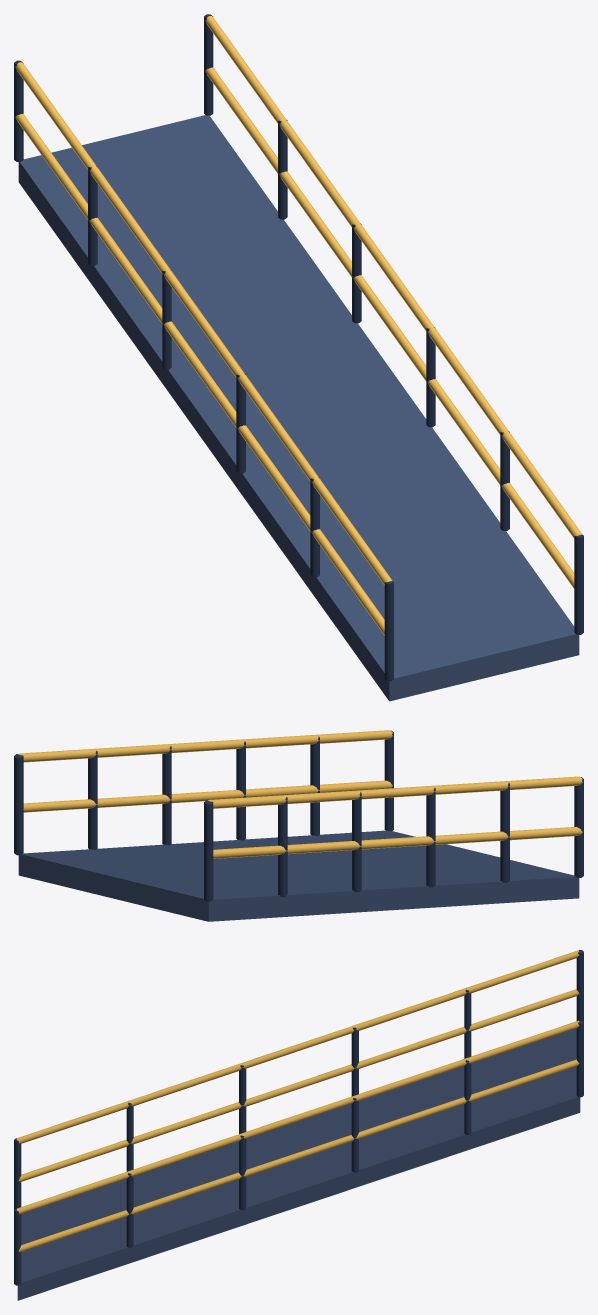
File: technical_access.glb
3 renders of one model, top to bottom at view 1: azimuth 30°, elevation 25°; view 2: azimuth 150°, elevation 25°; view 3: azimuth 270°, elevation 25°, orthographic. The views are drawn at different scales.
Visible parts, largest first — view 1: technical_access; view 2: technical_access; view 3: technical_access.
Boxes of the visible parts, x1,y1,x2,y2 form: technical_access: (14, 14, 583, 701); technical_access: (14, 730, 583, 921); technical_access: (14, 950, 583, 1300).
Bounding box in the file's own units: 2.19 × 3.9 × 7.19.
